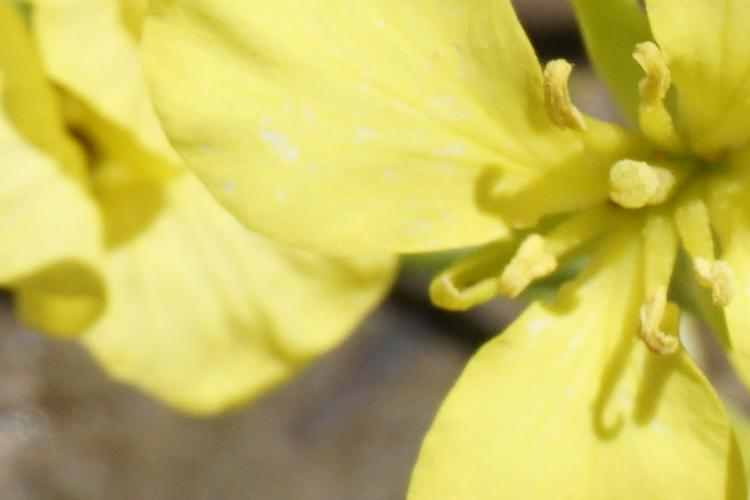yellow: (167, 7, 750, 499), (8, 14, 380, 384)
